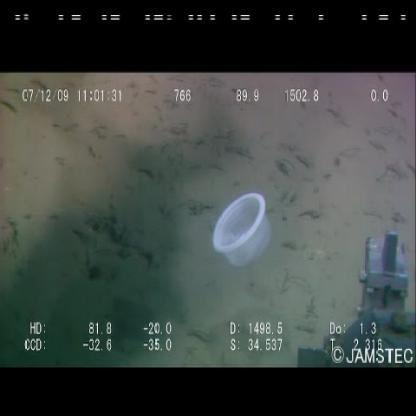Rov: (290, 228, 415, 362)
Rác: (207, 186, 277, 268)
